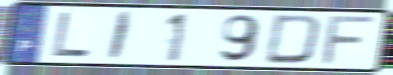1: (164, 12, 190, 63)
9: (218, 13, 262, 64)
D: (261, 13, 325, 66)
F: (318, 15, 381, 67)
I: (105, 10, 136, 62)
L: (50, 10, 93, 60)
